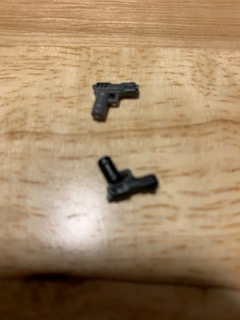pistol: (94, 155, 169, 203), (83, 80, 141, 126)
